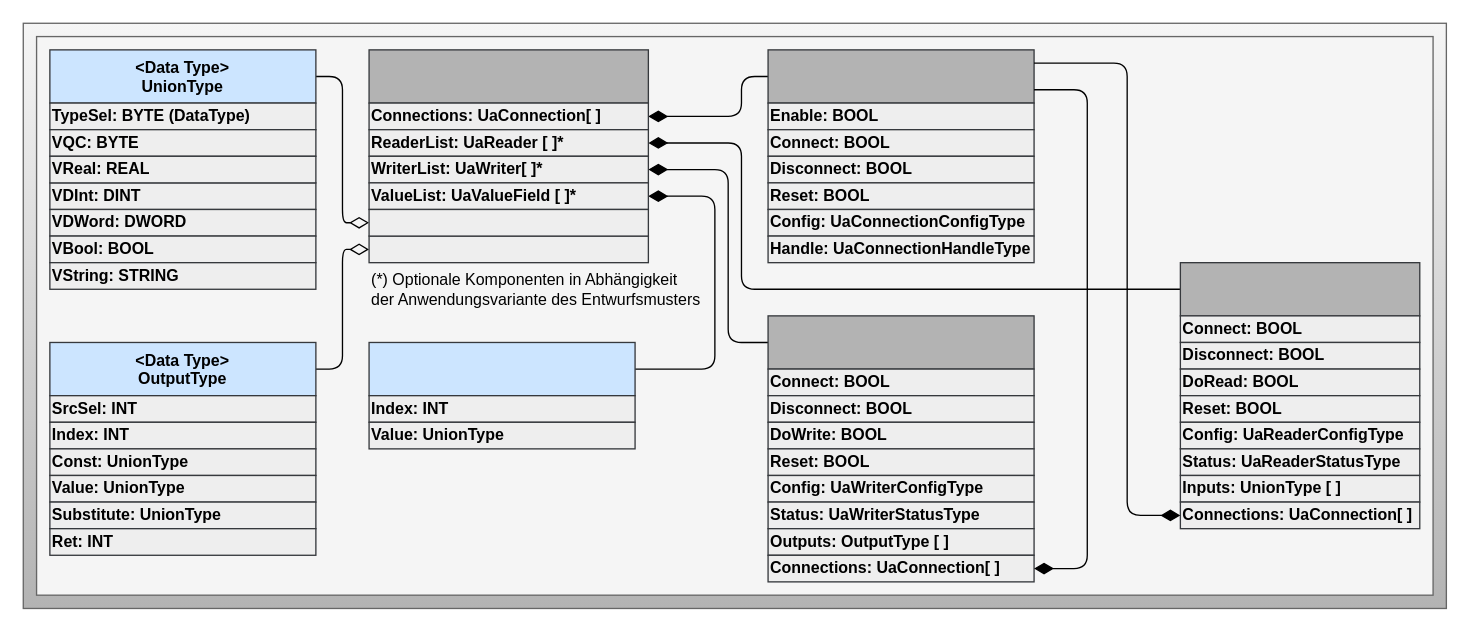
This 1470x632 diagram has some shape labels left out. The shapes that lost their labels are listed below. From the top down, each one's centre as x and y in pixels, then its label:
At point (508, 76): "<Component> OpcUaClientServerManager".
At point (900, 76): "<Component> UaConnection".
At point (508, 222): "Inputs: UnionType[ ]".
At point (508, 249): "Outputs: OutputType[ ]".
At point (1299, 288): "< Component > UaReader".
At point (900, 342): "< Component > UaWriter".
At point (501, 368): "<Data Type> UaValueField".
